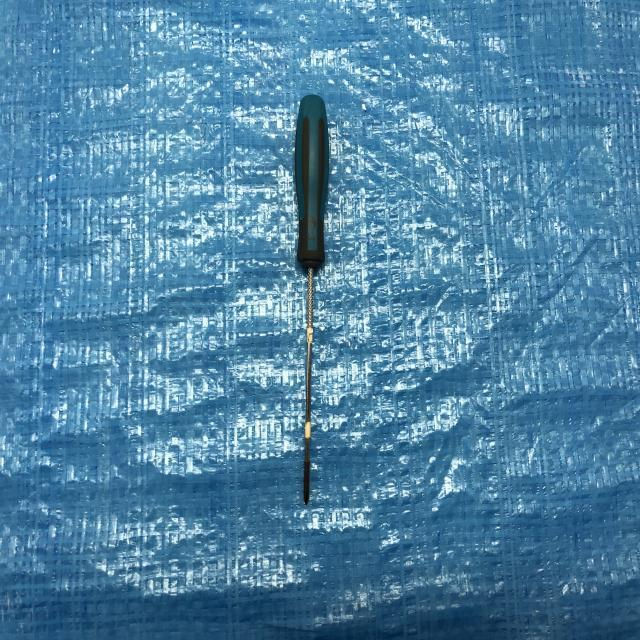screwdriver: (282, 90, 338, 510)
